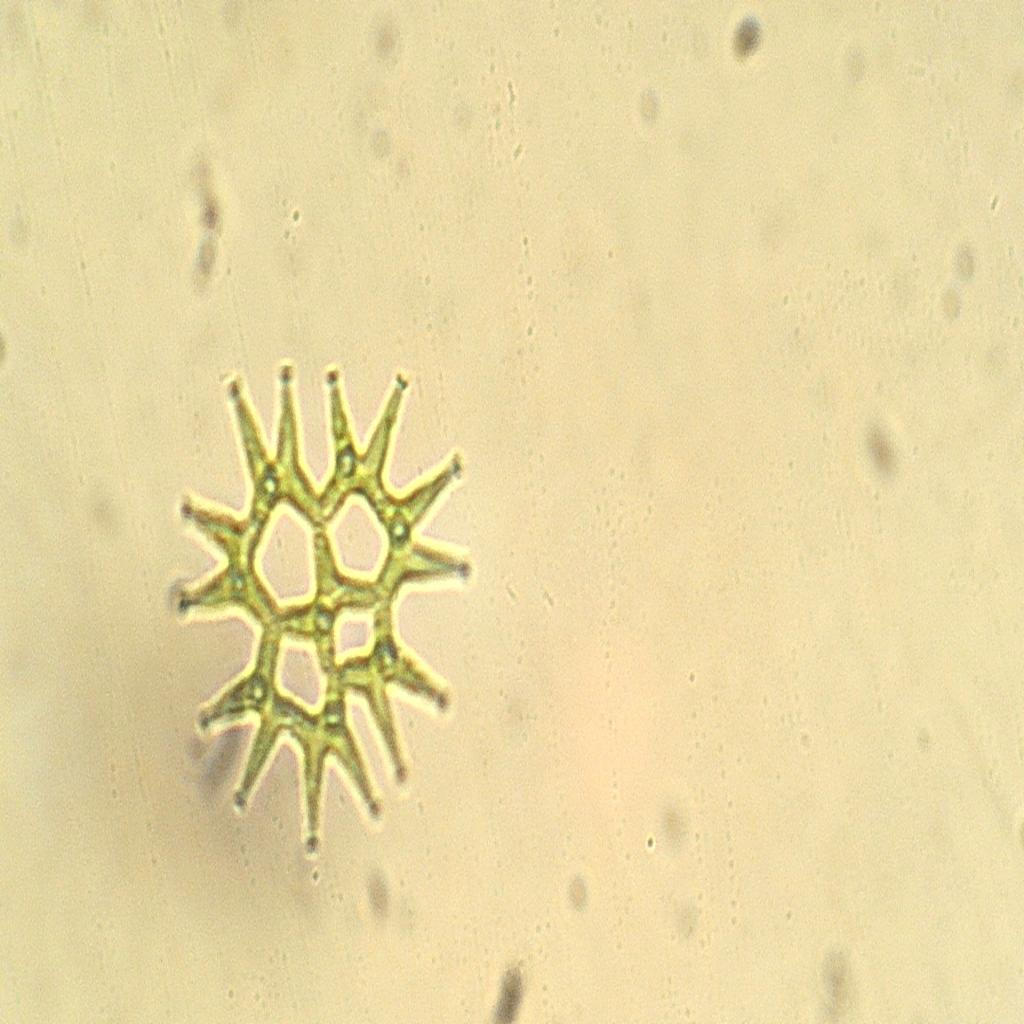Pediastrum_75T: (132, 348, 493, 882)
